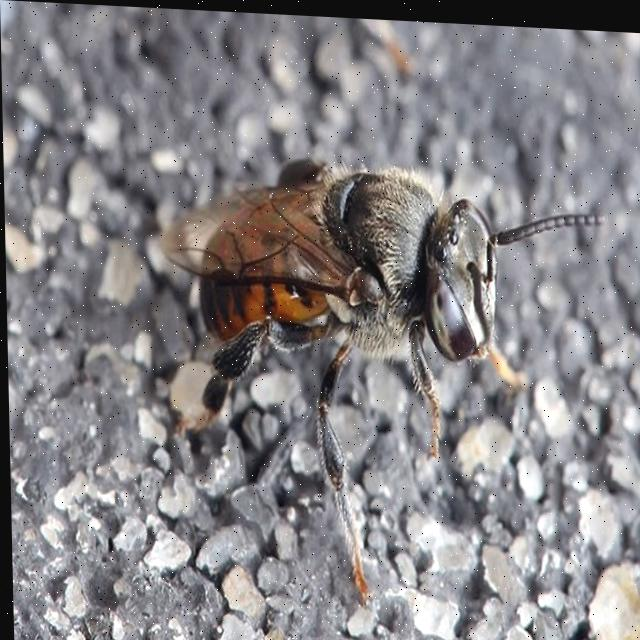Meliponula: (154, 117, 601, 576)
